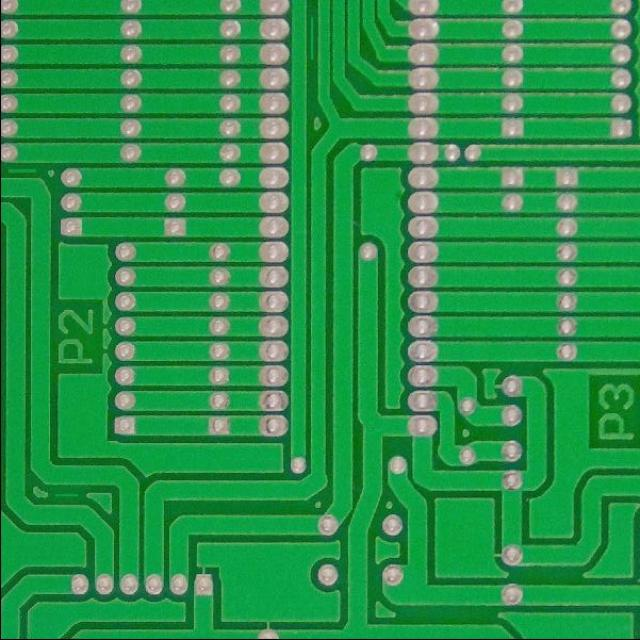Spurious_Cooper: (306, 12, 316, 64), (3, 163, 40, 176), (51, 489, 80, 500)
